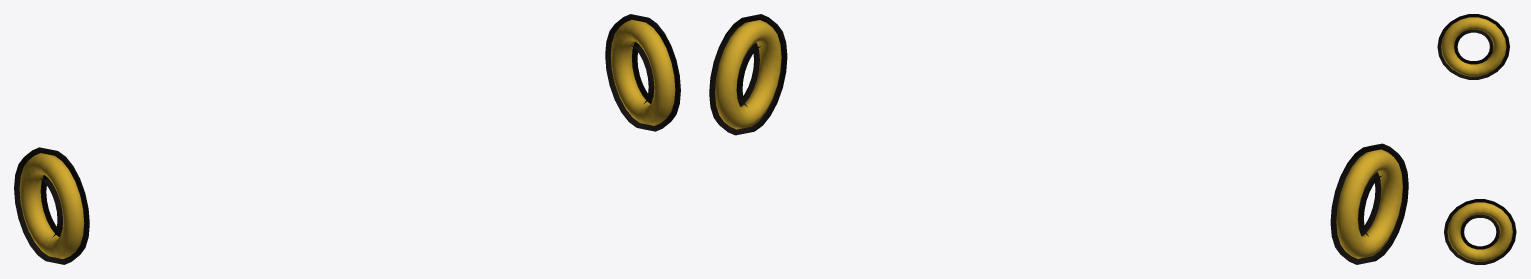
File: earring_hoop_male_hi.glb
The picture shows the model from 3 angles, left to right: view 1: azimuth 30°, elevation 25°; view 2: azimuth 150°, elevation 25°; view 3: azimuth 270°, elevation 25°; orthographic projection. The views are drawn at different scales.
Parts seen in each view (by area): view 1: earring_hoop_male_hi; view 2: earring_hoop_male_hi; view 3: earring_hoop_male_hi.
Part boxes in pixels (x1,y1,x2,y2): earring_hoop_male_hi: (14, 14, 680, 264); earring_hoop_male_hi: (709, 14, 1408, 264); earring_hoop_male_hi: (1437, 14, 1516, 264).
Bounding box in the file's own units: 0.4314 × 0.0819 × 0.0784.
